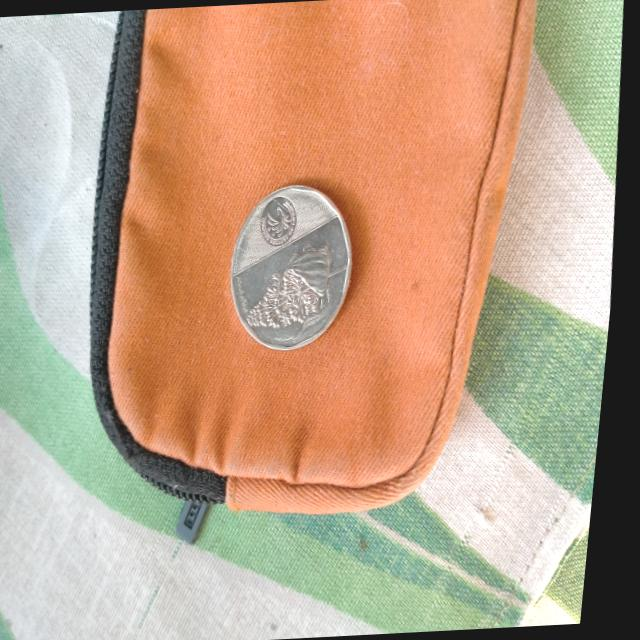10_New_Back: (242, 238, 352, 335)
